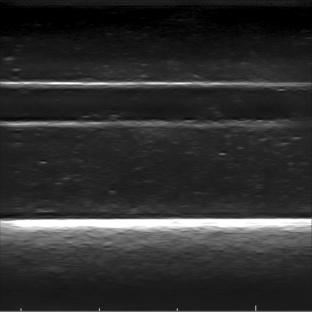vessel: (3, 79, 299, 129)
